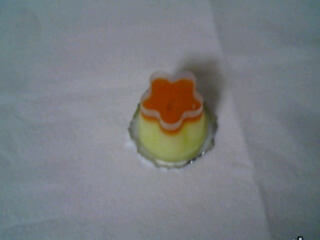001_classes: (122, 65, 237, 178)
